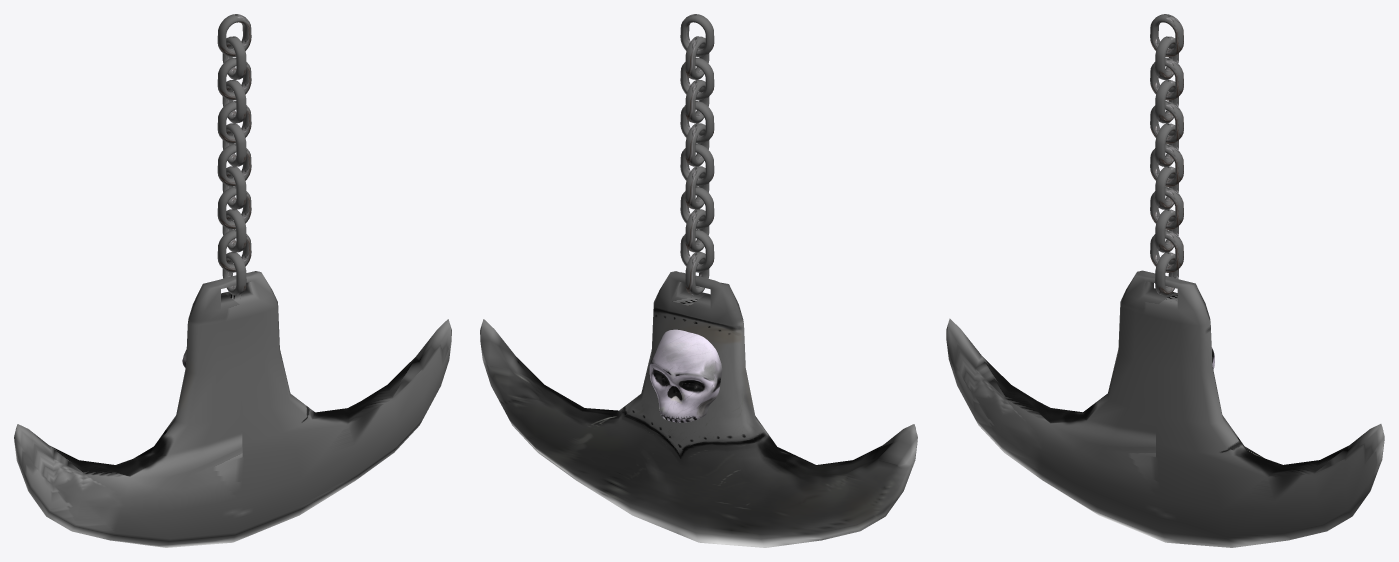
Rendered from SkullBlade.fbx.
3 views of the same model, side by side, from view 1: azimuth 30°, elevation 25°; view 2: azimuth 150°, elevation 25°; view 3: azimuth 330°, elevation 25° (orthographic).
Parts seen in each view (by area): view 1: blade, Torus.010, Torus.008, Torus.004, Torus, Torus.006, Torus.002, Torus.011, Torus.007, Torus.005, Torus.001, Torus.003 (+1 smaller); view 2: blade, Skull2, Torus.010, Torus.008, Torus.004, Torus.006, Torus, Torus.002, Torus.011, Torus.001, Torus.005, Torus.007 (+2 smaller); view 3: blade, Torus.010, Torus, Torus.004, Torus.002, Torus.006, Torus.008, Torus.007, Torus.001, Torus.003, Torus.005, Torus.009 (+1 smaller).
Part boxes in pixels (x1=…): blade: x1=14, y1=271, x2=451, y2=547; Torus.010: x1=217, y1=14, x2=251, y2=56; Torus.008: x1=217, y1=57, x2=251, y2=100; Torus.004: x1=217, y1=186, x2=251, y2=229; Torus: x1=217, y1=101, x2=251, y2=143; Torus.006: x1=217, y1=229, x2=251, y2=272; Torus.002: x1=217, y1=144, x2=251, y2=186; Torus.011: x1=222, y1=36, x2=246, y2=79; Torus.007: x1=222, y1=252, x2=246, y2=295; Torus.005: x1=222, y1=209, x2=246, y2=252; Torus.001: x1=222, y1=123, x2=246, y2=166; Torus.003: x1=222, y1=166, x2=246, y2=209; blade: x1=480, y1=271, x2=917, y2=547; Skull2: x1=649, y1=329, x2=722, y2=422; Torus.010: x1=680, y1=14, x2=714, y2=56; Torus.008: x1=680, y1=57, x2=714, y2=100; Torus.004: x1=680, y1=186, x2=714, y2=229; Torus.006: x1=680, y1=229, x2=714, y2=272; Torus: x1=680, y1=101, x2=714, y2=143; Torus.002: x1=680, y1=144, x2=714, y2=186; Torus.011: x1=685, y1=36, x2=709, y2=79; Torus.001: x1=685, y1=123, x2=709, y2=166; Torus.005: x1=685, y1=209, x2=709, y2=252; Torus.007: x1=685, y1=252, x2=709, y2=295; blade: x1=946, y1=270, x2=1384, y2=547; Torus.010: x1=1150, y1=14, x2=1183, y2=57; Torus: x1=1150, y1=101, x2=1183, y2=144; Torus.004: x1=1150, y1=187, x2=1183, y2=229; Torus.002: x1=1150, y1=144, x2=1183, y2=186; Torus.006: x1=1150, y1=230, x2=1183, y2=272; Torus.008: x1=1150, y1=57, x2=1183, y2=100; Torus.007: x1=1155, y1=252, x2=1178, y2=295; Torus.001: x1=1155, y1=123, x2=1178, y2=166; Torus.003: x1=1155, y1=166, x2=1178, y2=209; Torus.005: x1=1155, y1=209, x2=1178, y2=252; Torus.009: x1=1155, y1=80, x2=1178, y2=123.
Bounding box in the file's own units: 239 × 275 × 34.24.
